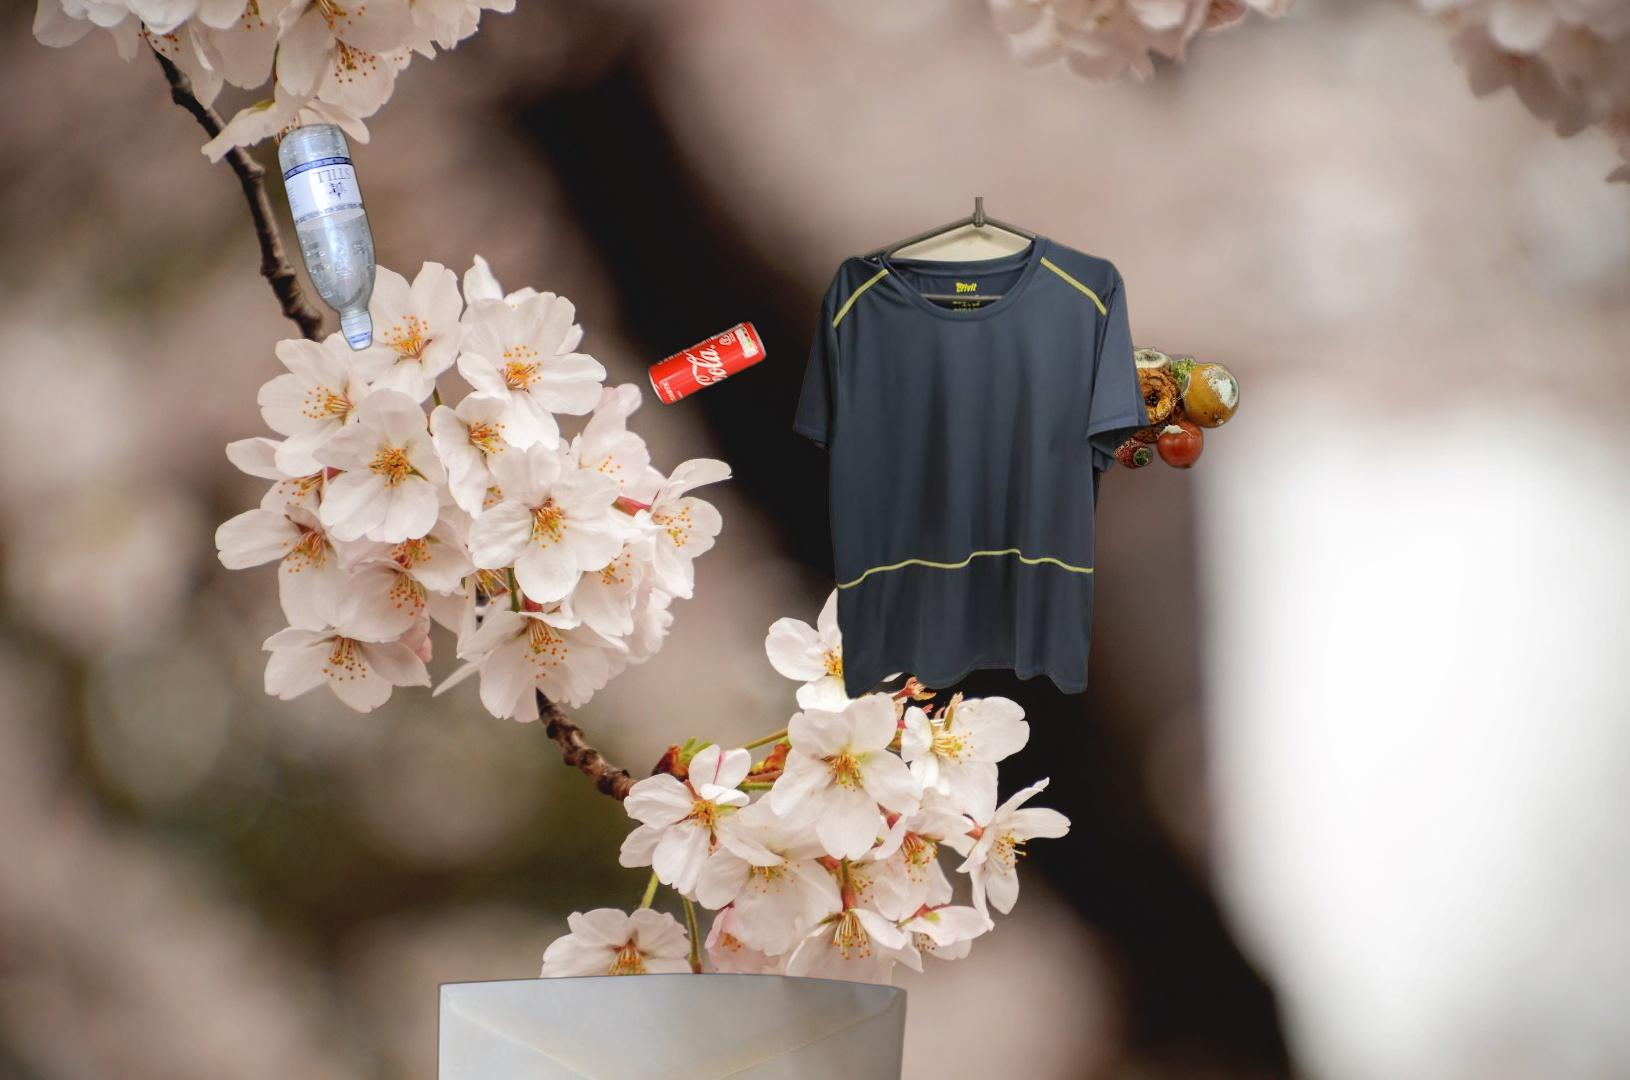biological: (1072, 345, 1241, 472)
clothes: (789, 196, 1154, 711)
metal-cans: (643, 315, 771, 411)
paper: (429, 970, 908, 1080)
plastic-bottles: (273, 118, 379, 356)
